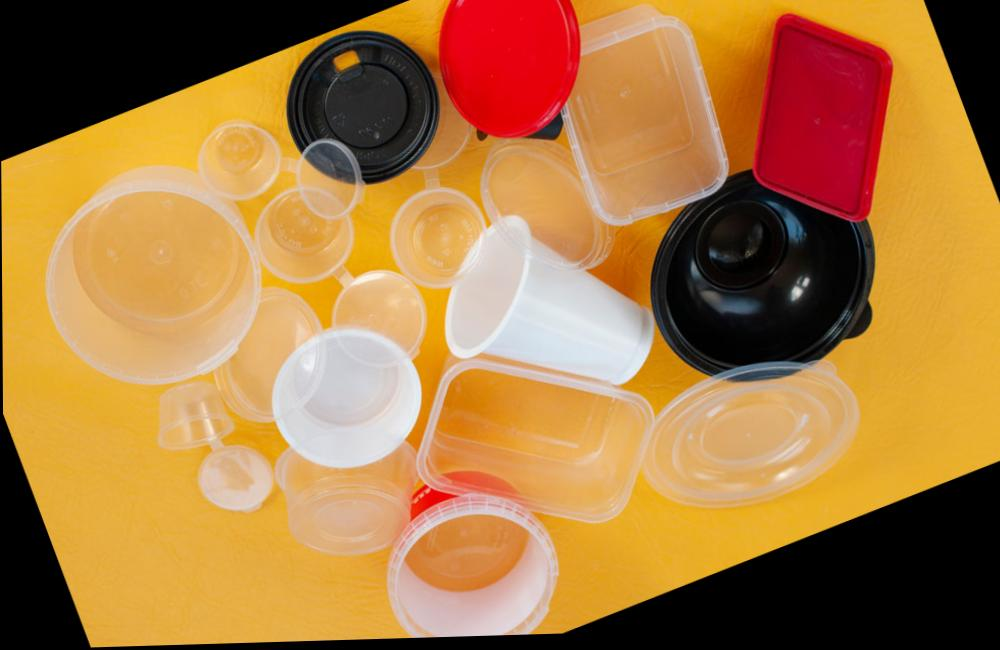plastic: (46, 131, 278, 384), (652, 171, 873, 375), (418, 356, 653, 522), (562, 5, 727, 226), (445, 217, 654, 384), (287, 5, 471, 183), (643, 362, 858, 508), (753, 14, 891, 221), (387, 489, 556, 638), (273, 329, 420, 469), (440, 0, 579, 137), (481, 139, 612, 268), (275, 445, 415, 556), (157, 379, 273, 512), (255, 140, 362, 282), (391, 186, 484, 287), (332, 271, 425, 357), (199, 122, 280, 201)
